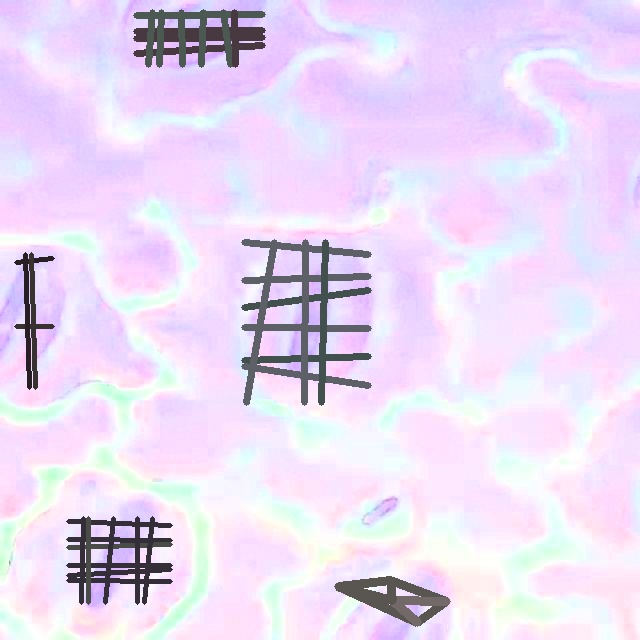open: (241, 239, 371, 404), (66, 516, 171, 603), (133, 10, 264, 67), (335, 576, 450, 625), (14, 252, 54, 389)
